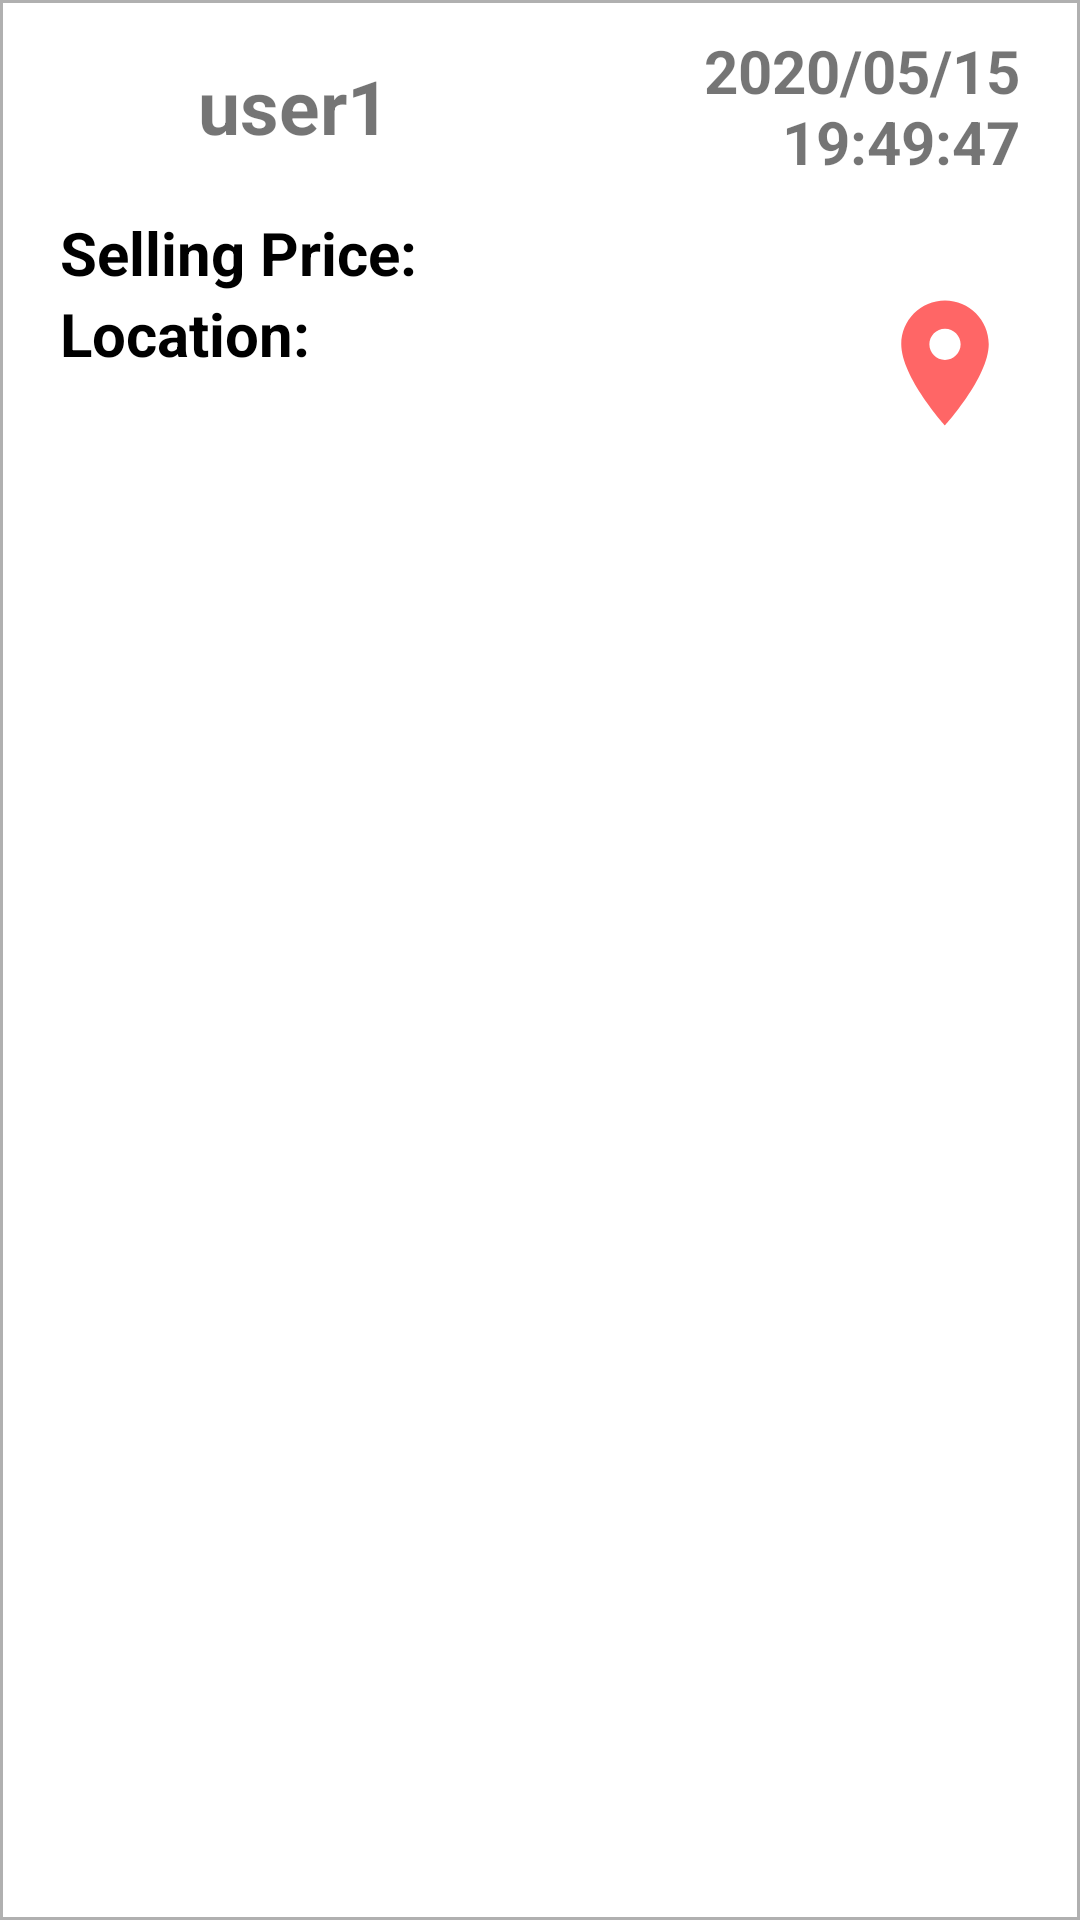

Screen size 1080 x 1920. Icon name, then its center in pixels as point (x, y):
location: point (945, 362)
